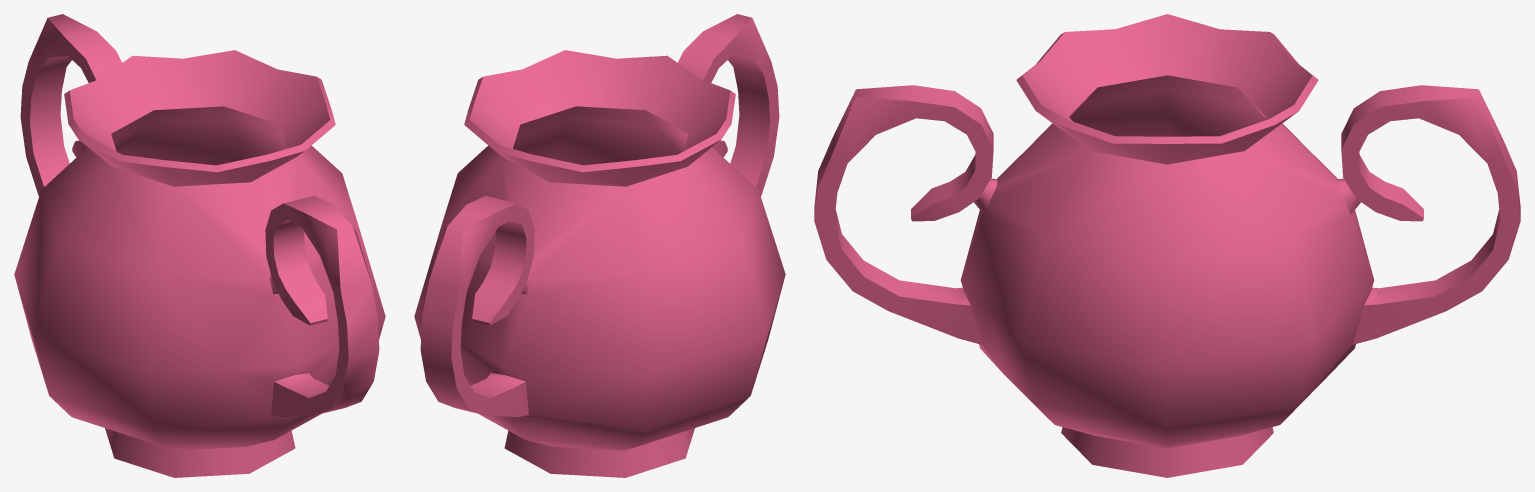
Rendered from Tableware_V4_4.fbx.
3 renders of one model, left to right at view 1: azimuth 30°, elevation 25°; view 2: azimuth 150°, elevation 25°; view 3: azimuth 270°, elevation 25°, orthographic. The views are drawn at different scales.
Parts seen in each view (by area): view 1: SM_Tableware_V4_4; view 2: SM_Tableware_V4_4; view 3: SM_Tableware_V4_4.
Part boxes in pixels (left/top/right/bottom): SM_Tableware_V4_4: left=14, top=14, right=385, bottom=477; SM_Tableware_V4_4: left=414, top=14, right=785, bottom=477; SM_Tableware_V4_4: left=814, top=14, right=1520, bottom=477.
Bounding box in the file's own units: 8.83 × 8.42 × 15.06.
